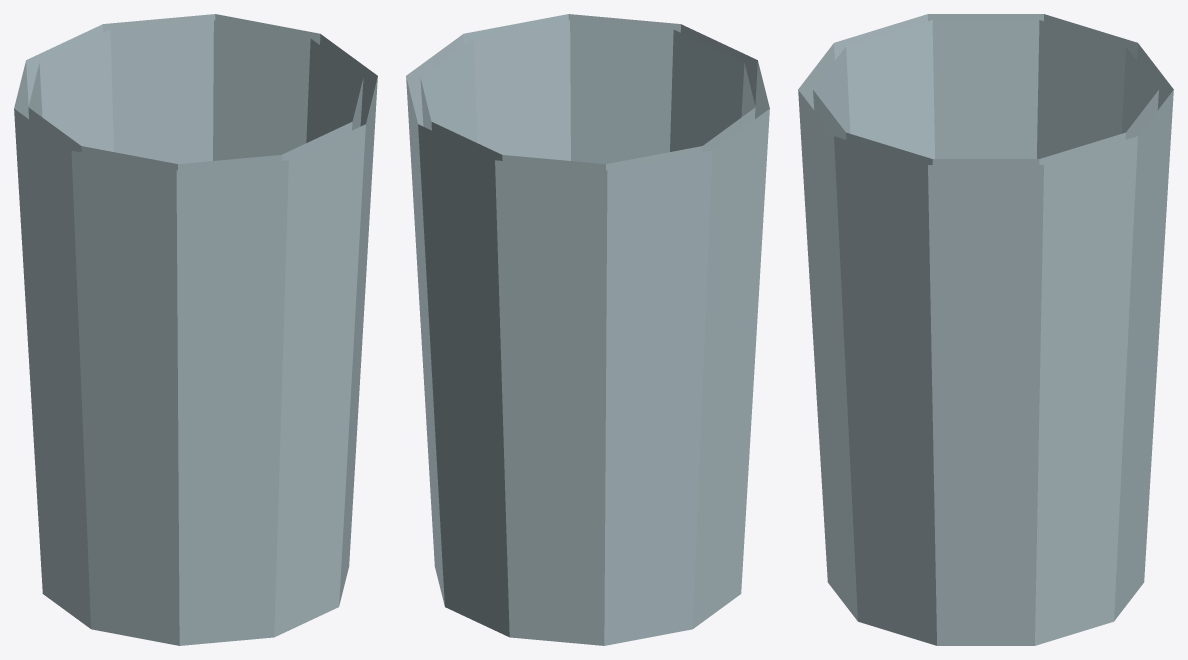
Rendered from Water_Glass.fbx.
3 renders of one model, left to right at view 1: azimuth 30°, elevation 25°; view 2: azimuth 150°, elevation 25°; view 3: azimuth 270°, elevation 25°, orthographic.
Visible parts, largest first — view 1: Water_Glass; view 2: Water_Glass; view 3: Water_Glass.
Boxes of the visible parts, x1,y1,x2,y2 form: Water_Glass: [14, 14, 377, 645]; Water_Glass: [406, 14, 769, 645]; Water_Glass: [798, 14, 1173, 645].
Size of the model in its own units: 0.0723 by 0.11 by 0.076.
